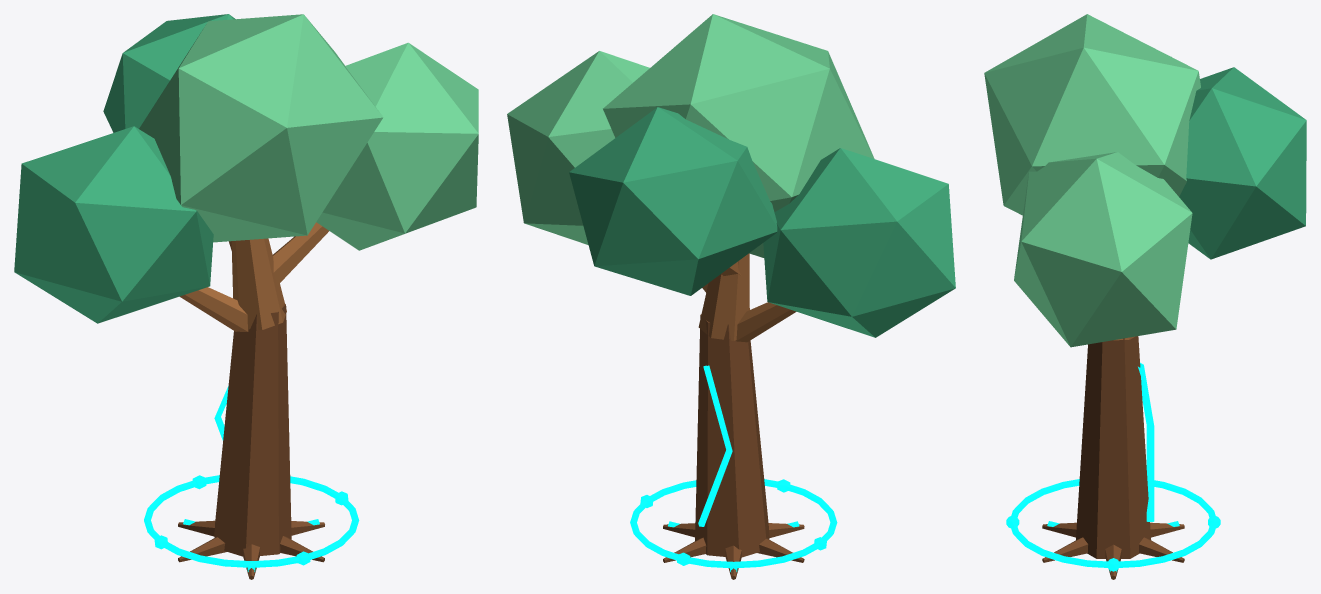
The model's file is growing.glb.
3 views of the same model, side by side, from view 1: azimuth 30°, elevation 25°; view 2: azimuth 150°, elevation 25°; view 3: azimuth 270°, elevation 25° (orthographic). The views are drawn at different scales.
Visible parts, largest first — view 1: Canopy_04, Canopy_01, Canopy_02, Trunk_Lower, Canopy_03, Trunk_Upper, Chrono_Energy_Ring, Branch_01, Branch_02; view 2: Canopy_01, Canopy_03, Canopy_04, Canopy_02, Trunk_Lower, Trunk_Upper, Chrono_Energy_Ring, Branch_01, Trunk_Energy; view 3: Canopy_02, Canopy_04, Canopy_03, Trunk_Lower, Chrono_Energy_Ring, Trunk_Energy, Root_06, Root_02.
Boxes of the visible parts, box(x1,y1,x2,y2) form: Canopy_04: box(139, 14, 383, 242); Canopy_01: box(14, 126, 213, 323); Canopy_02: box(316, 42, 478, 250); Trunk_Lower: box(214, 303, 291, 556); Canopy_03: box(103, 14, 235, 132); Trunk_Upper: box(231, 238, 286, 330); Chrono_Energy_Ring: box(144, 475, 359, 567); Branch_01: box(179, 287, 248, 331); Branch_02: box(272, 222, 328, 285); Canopy_01: box(763, 148, 955, 337); Canopy_03: box(569, 107, 777, 295); Canopy_04: box(603, 14, 874, 257); Canopy_02: box(507, 51, 649, 244); Trunk_Lower: box(695, 314, 769, 557); Trunk_Upper: box(698, 253, 749, 340); Chrono_Energy_Ring: box(630, 479, 837, 568); Branch_01: box(735, 302, 796, 342); Trunk_Energy: box(698, 365, 732, 526); Canopy_02: box(1014, 152, 1192, 347); Canopy_04: box(984, 14, 1200, 215); Canopy_03: box(1179, 67, 1306, 259); Trunk_Lower: box(1076, 336, 1150, 558); Chrono_Energy_Ring: box(1010, 479, 1216, 567); Trunk_Energy: box(1138, 362, 1154, 521); Root_06: box(1042, 537, 1088, 562); Root_02: box(1139, 537, 1184, 562).
Size of the model in its own units: 2.53 by 2.78 by 1.57.
